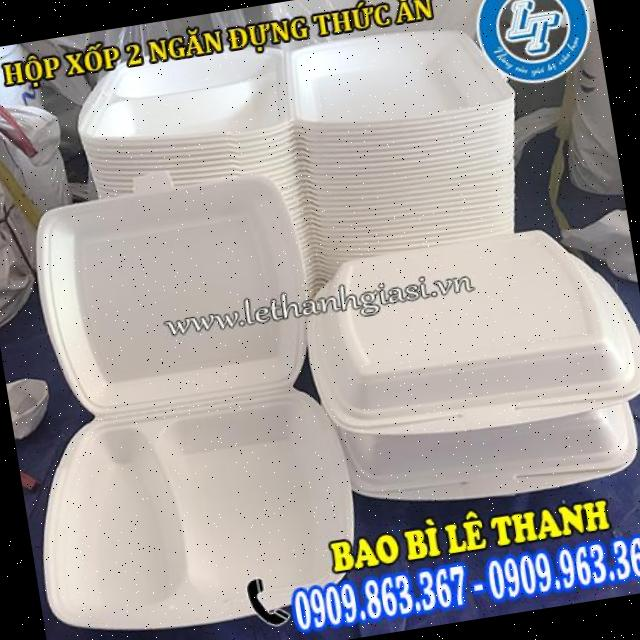styrofoam: (0, 151, 369, 640), (293, 211, 640, 524), (65, 28, 322, 328), (276, 12, 541, 294)
